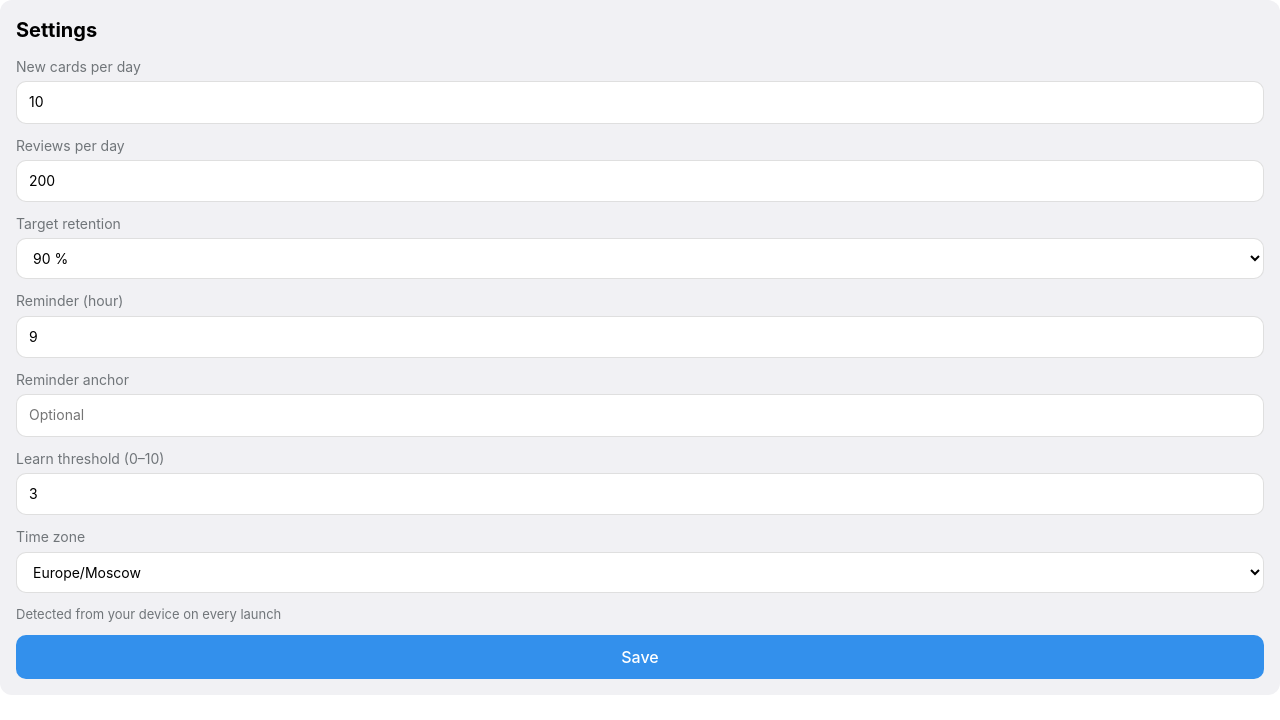
Test: SettingsView › settings loads and saves
This screenshot has width=1280, height=720.
Expected: the number field labelled "Reviews per day" holds "200", [16, 160, 1264, 202]
Expected: the dropdown labelled "Target retention" shows "90 %", [16, 238, 1264, 280]
Replace the text in the number field labelled "New cards per day" with "15". click: (640, 102)
box: [16, 81, 1264, 124]
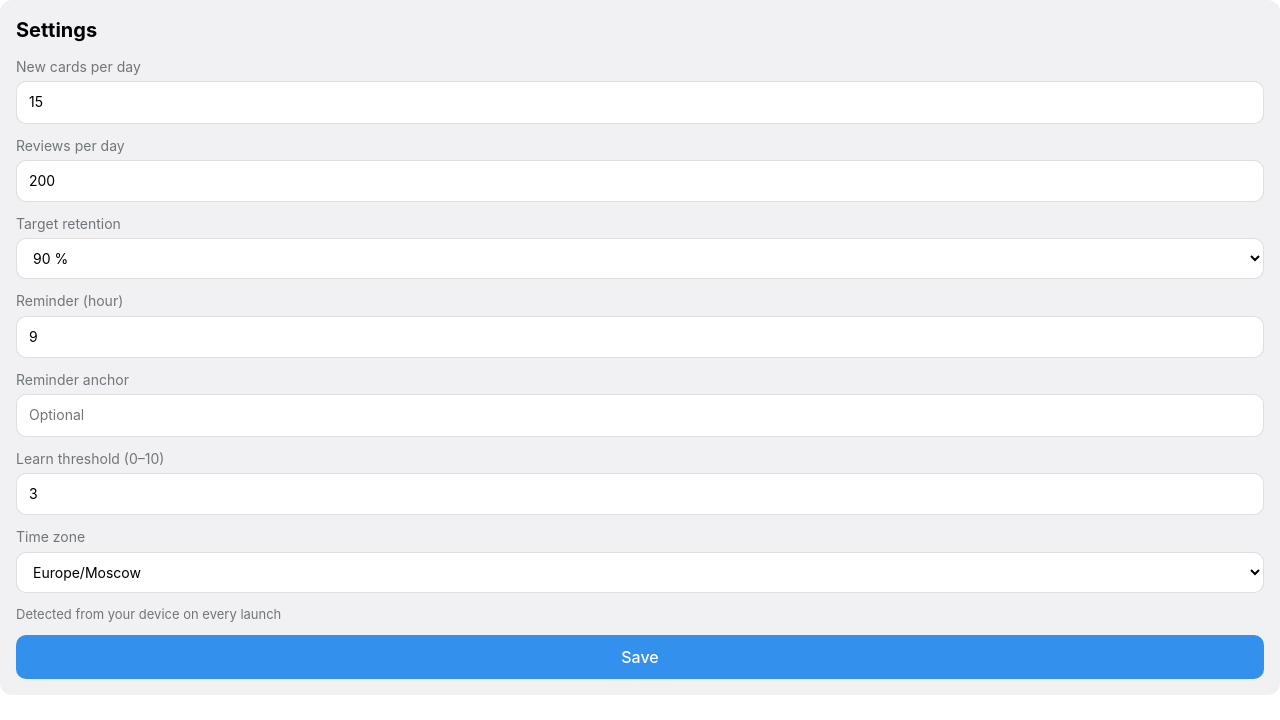
Select "88 %" in the dropdown labelled "Target retention". click: (640, 259)
box: [16, 238, 1264, 280]
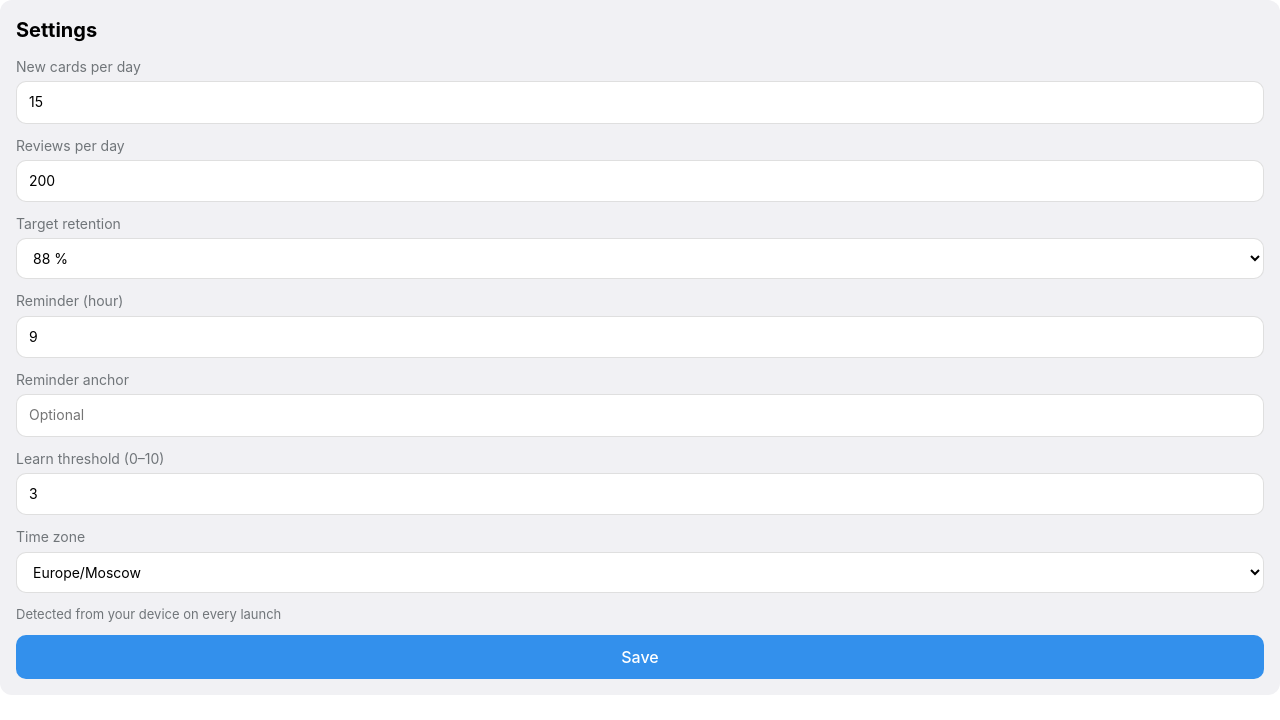
Type "  после кофе " into the field labelled "Reminder anchor". click: (640, 416)
box: [16, 394, 1264, 437]
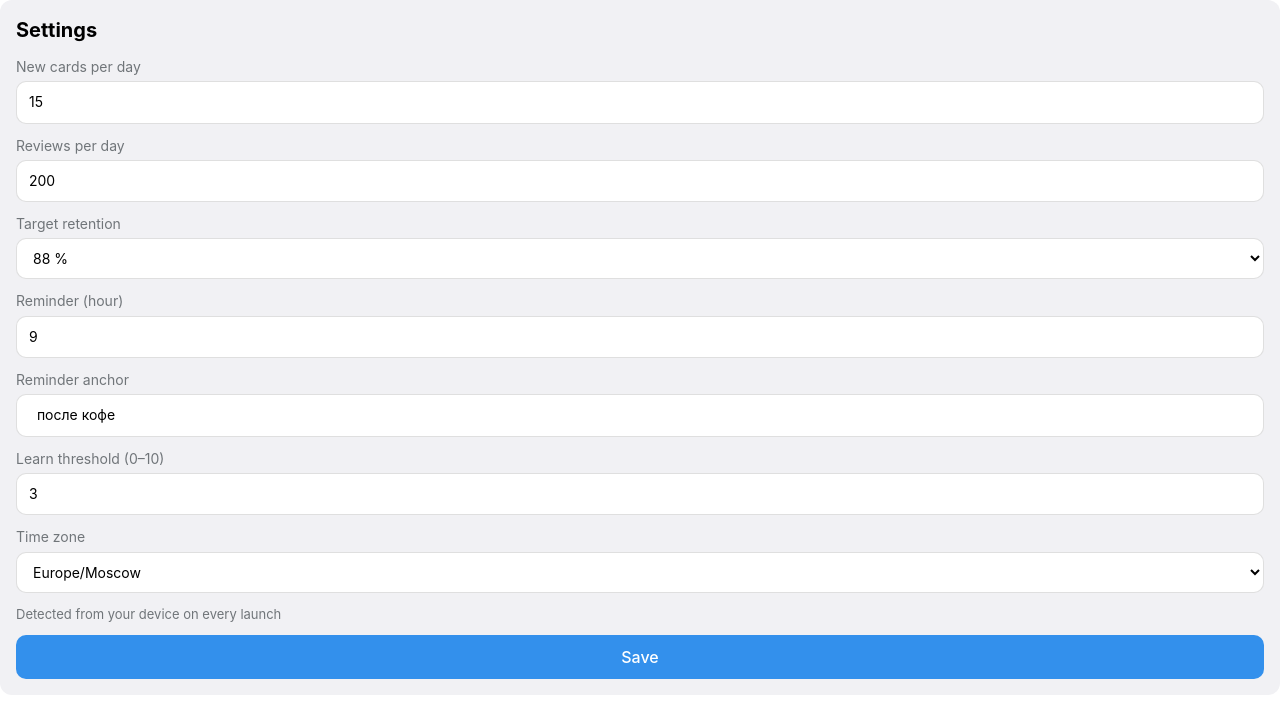
Click the button "Save". click: (640, 657)
box: [16, 635, 1264, 679]
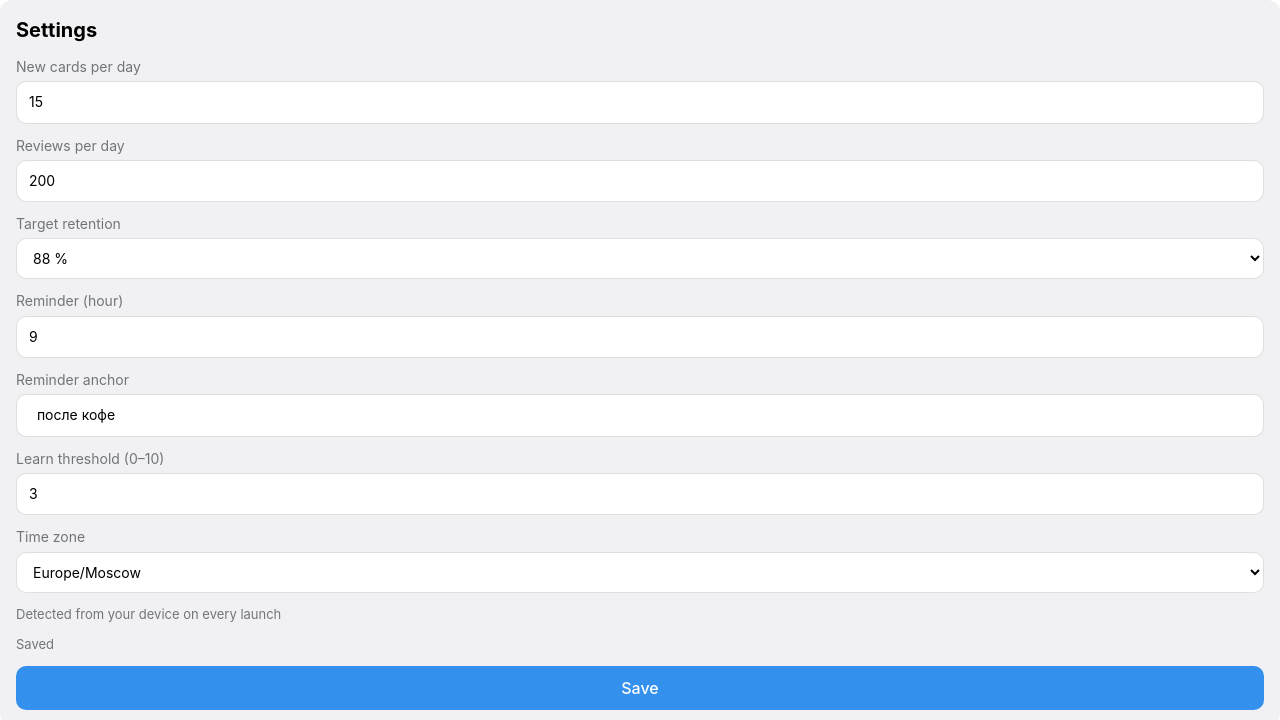
Result: the text "Saved" is shown at [16, 636, 54, 652]
